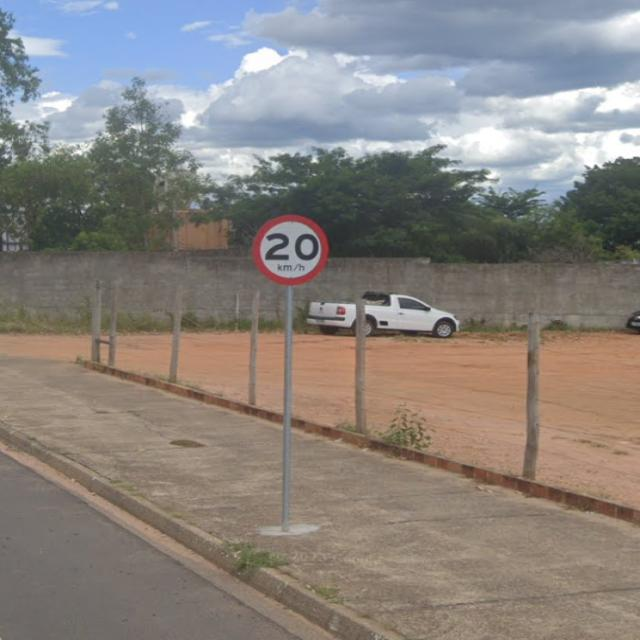speed limit: (238, 206, 342, 301)
